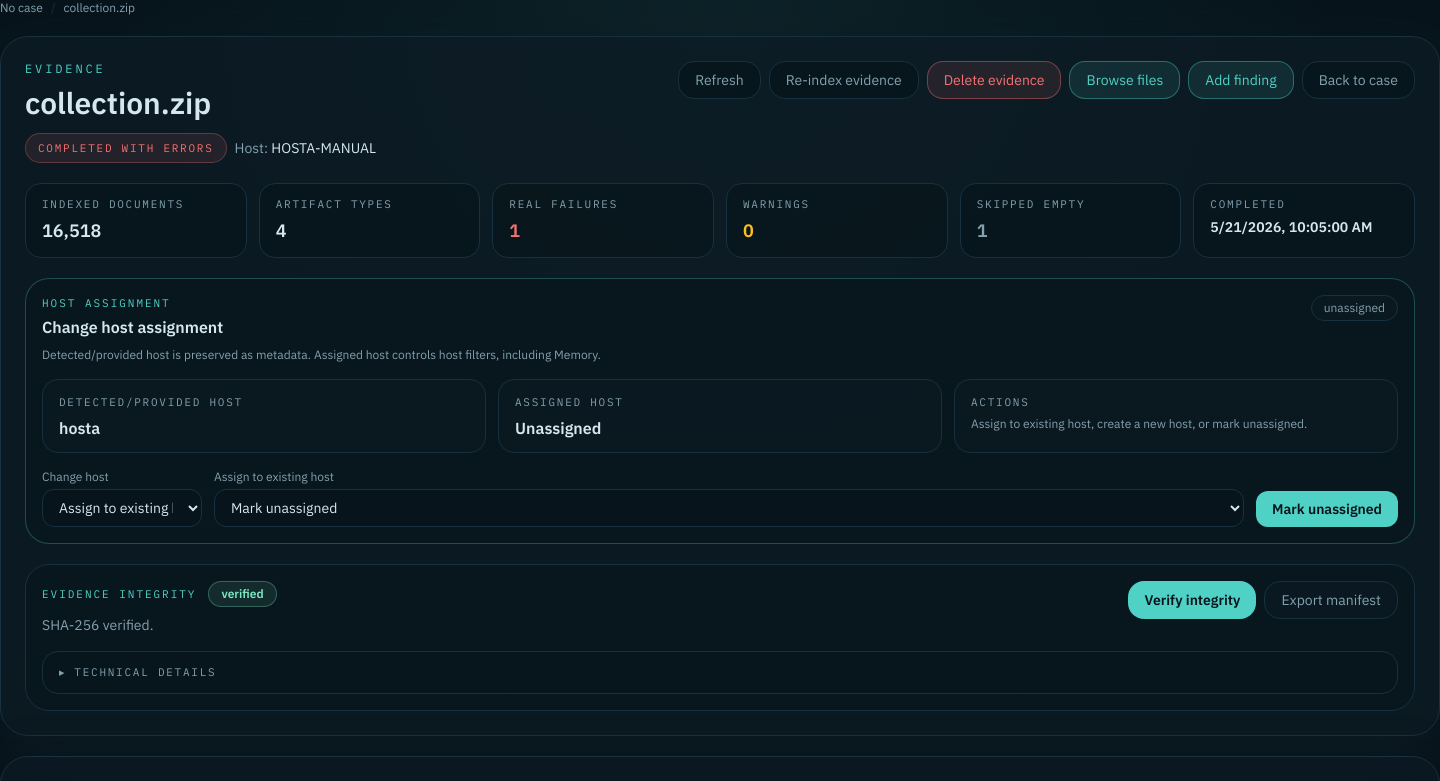
EvidenceDetail minimal processing UX › renders verified integrity and custody events
The image size is (1440, 781).
Expected: the text "SHA-256 verified." is shown, [42, 616, 154, 634]
Click the button "▸ Technical details": click(145, 672) [43, 652, 1397, 692]
(page scrolled)
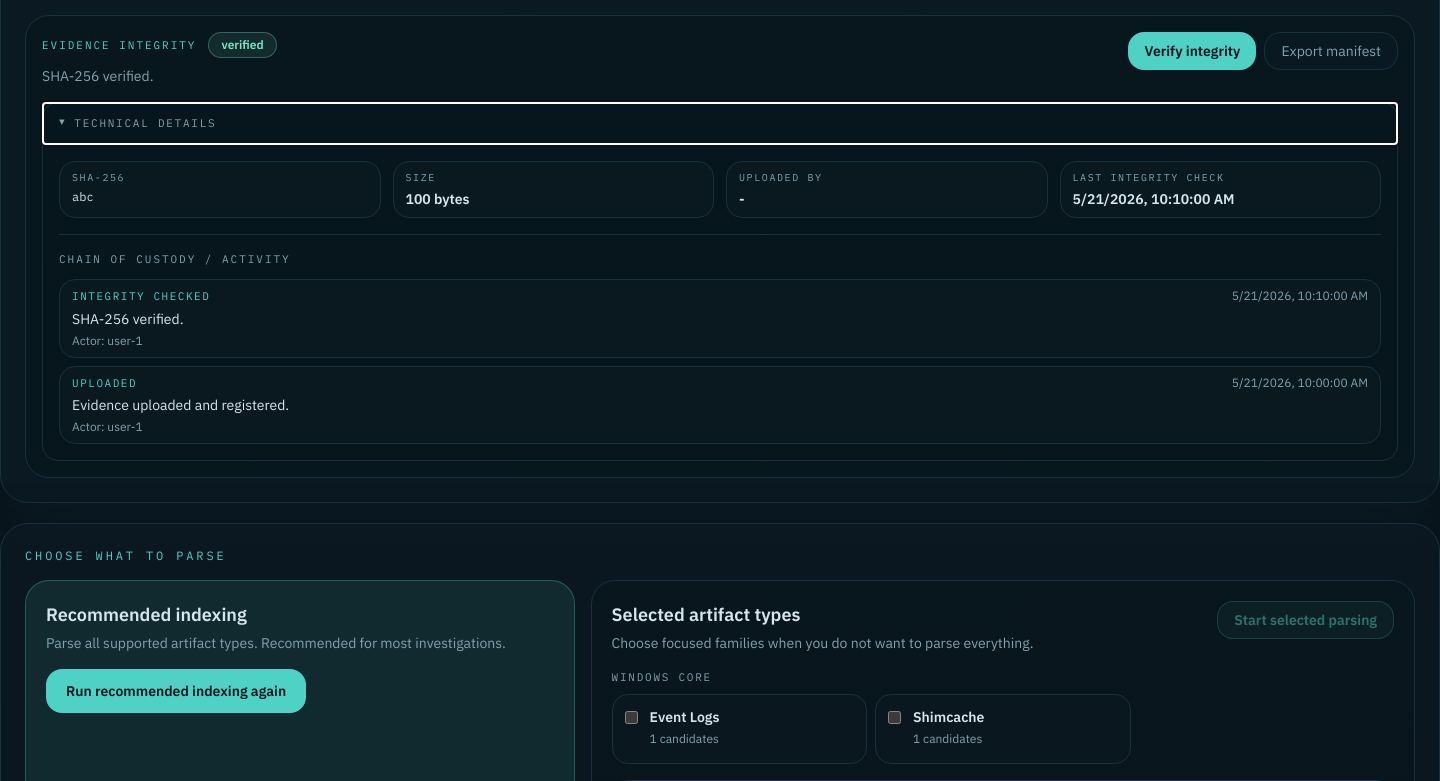
Now the text "uploaded" is shown, box [72, 374, 137, 391]
Now the text "Evidence uploaded and registered." is shown, box [72, 396, 289, 414]
